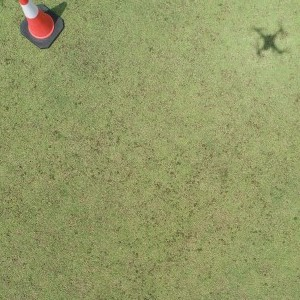traffic cone: (18, 1, 64, 49)
